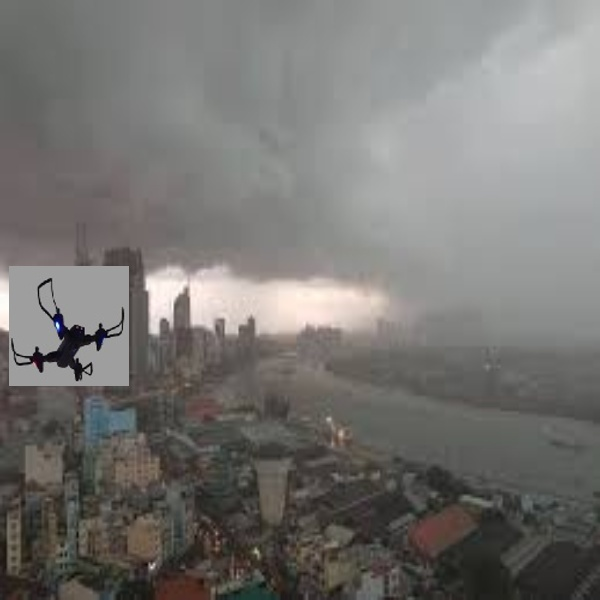drone: (11, 267, 126, 386)
